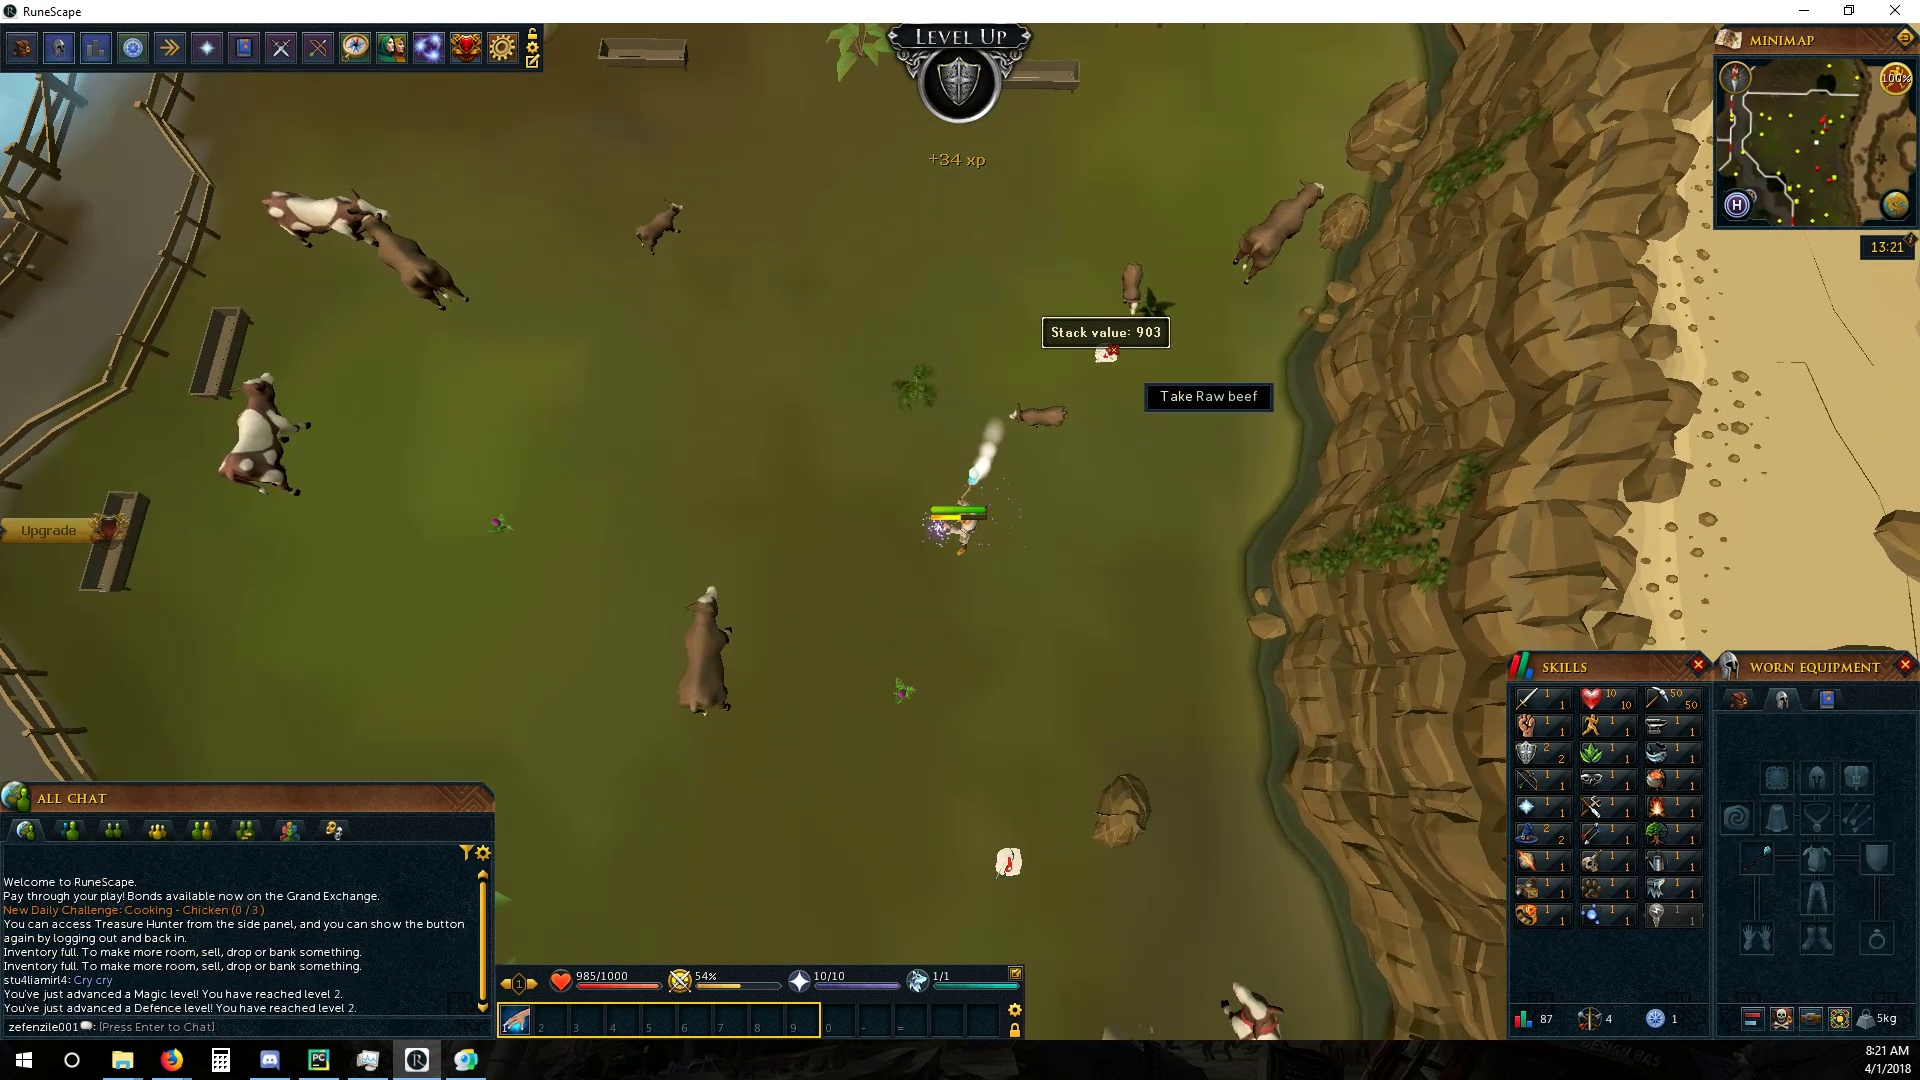calf: (626, 198, 692, 257), (1005, 402, 1069, 433), (1117, 261, 1147, 315)
cow: (219, 371, 316, 501), (359, 212, 476, 313), (1229, 175, 1328, 291), (256, 182, 394, 251), (670, 582, 738, 719)
cow_drop: (992, 844, 1026, 880), (1095, 347, 1122, 367)
